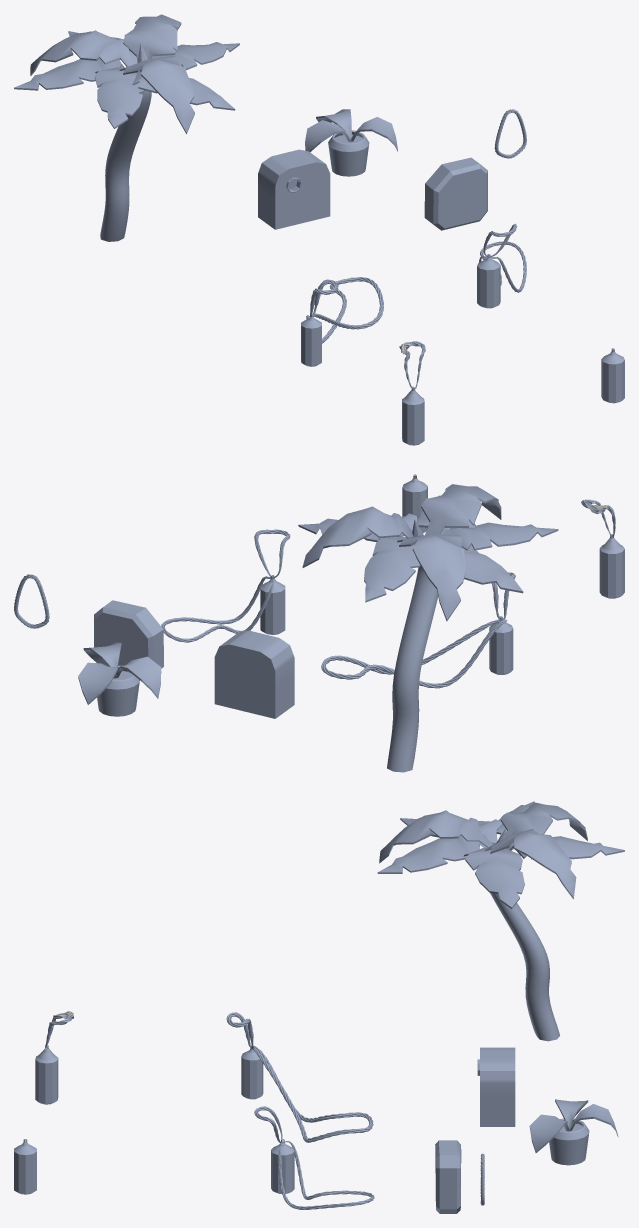
The model's file is decorUV.fbx.
3 views of the same model, one above another, from view 1: azimuth 30°, elevation 25°; view 2: azimuth 150°, elevation 25°; view 3: azimuth 270°, elevation 25° (orthographic). The views are drawn at different scales.
Parts seen in each view (by area): view 1: Charger, OIlCan, extrudedSurface1, pPlane9, pPlane7, pPlane2, pPlane8, pPlane6, pCylinder3, sweep3, pCylinder4, pCylinder5 (+7 smaller); view 2: Charger, extrudedSurface1, OIlCan, pPlane7, pPlane8, pPlane9, pPlane5, sweep3, pPlane2, sweep5, pCylinder3, pCylinder4 (+9 smaller); view 3: extrudedSurface1, Charger, pPlane4, pPlane9, pPlane8, pPlane3, OIlCan, sweep3, pPlane7, sweep5, pCylinder3, pCylinder4 (+6 smaller).
Boxes of the visible parts, x1,y1,x2,y2 form: Charger: (258,149,330,229); OIlCan: (424,157,487,230); extrudedSurface1: (100,90,151,241); pPlane9: (119,55,194,133); pPlane7: (30,30,133,75); pPlane2: (95,67,144,128); pPlane8: (123,14,181,60); pPlane6: (14,58,124,90); pCylinder3: (328,130,369,176); sweep3: (306,277,383,343); pCylinder4: (402,386,424,445); pCylinder5: (601,348,624,403); Charger: (214,630,294,718); extrudedSurface1: (387,566,438,772); OIlCan: (94,600,163,668); pPlane7: (397,534,465,621); pPlane8: (302,506,413,567); pPlane9: (421,484,501,535); pPlane5: (364,536,420,602); sweep3: (321,572,515,688); pPlane2: (442,522,558,550); sweep5: (161,529,290,642); pCylinder3: (97,665,139,716); pCylinder4: (599,534,624,598); extrudedSurface1: (490,893,559,1041); Charger: (477,1047,515,1126); pPlane4: (463,847,524,908); pPlane9: (379,810,493,863); pPlane8: (484,829,576,899); pPlane3: (377,835,486,873); OIlCan: (435,1140,461,1213); sweep3: (226,1012,373,1142); pPlane7: (501,802,587,849); sweep5: (254,1106,374,1209); pCylinder3: (549,1118,589,1165); pCylinder4: (35,1045,58,1104).
Size of the model in its own units: 8.87 by 4.42 by 9.48.
